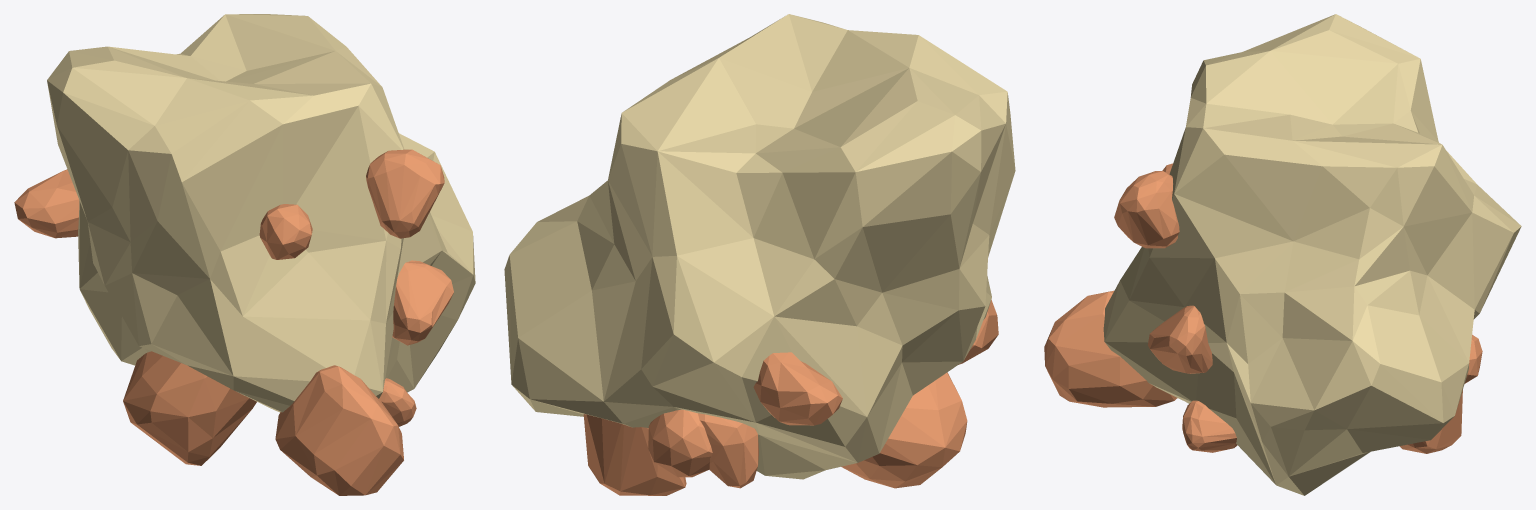
The model's file is StoneOre (30).fbx.
3 views of the same model, side by side, from view 1: azimuth 30°, elevation 25°; view 2: azimuth 150°, elevation 25°; view 3: azimuth 270°, elevation 25° (orthographic). The views are drawn at different scales.
Parts seen in each view (by area): view 1: Asteroid317; view 2: Asteroid317; view 3: Asteroid317.
Boxes of the visible parts, x1=… form: Asteroid317: x1=14, y1=14, x2=475, y2=495; Asteroid317: x1=504, y1=14, x2=1015, y2=495; Asteroid317: x1=1044, y1=14, x2=1521, y2=495.
Size of the model in its own units: 229 by 207 by 256.
